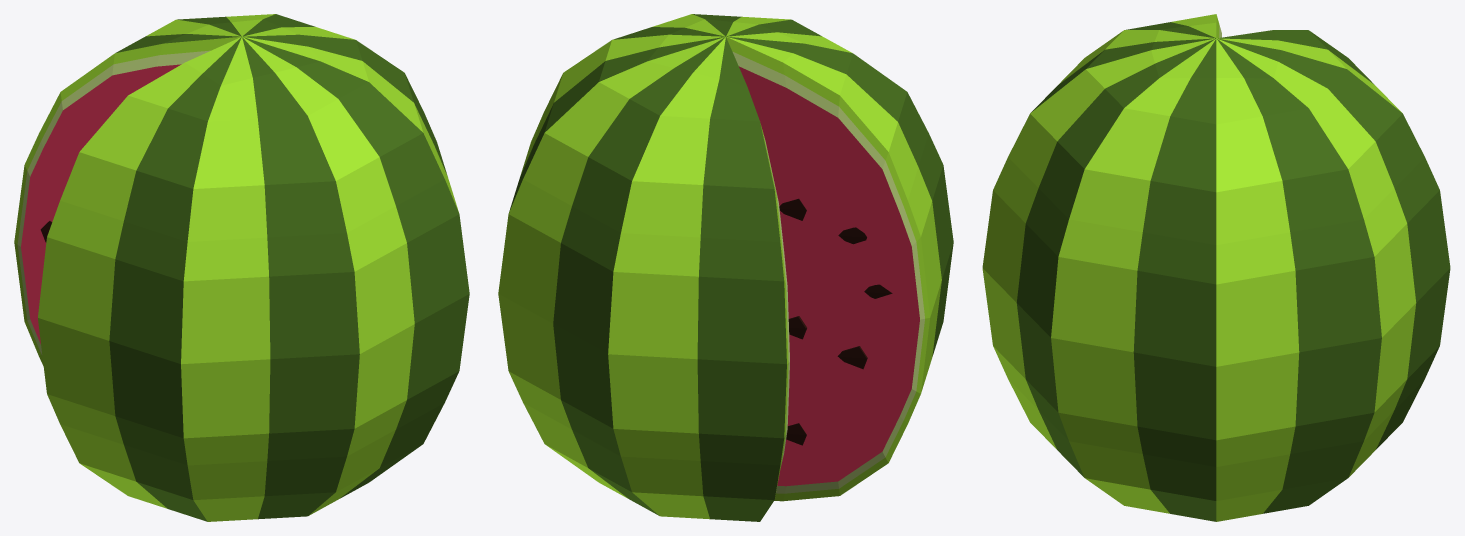
File: watermelon.fbx
3 views of the same model, side by side, from view 1: azimuth 30°, elevation 25°; view 2: azimuth 150°, elevation 25°; view 3: azimuth 270°, elevation 25° (orthographic).
Parts seen in each view (by area): view 1: Cube.032; view 2: Cube.032; view 3: Cube.032.
Part boxes in pixels (box(x1,y1,x2,y2)): Cube.032: box(14, 14, 469, 521); Cube.032: box(498, 14, 953, 521); Cube.032: box(982, 14, 1450, 521).
Bounding box in the file's own units: 303 × 328 × 303.
